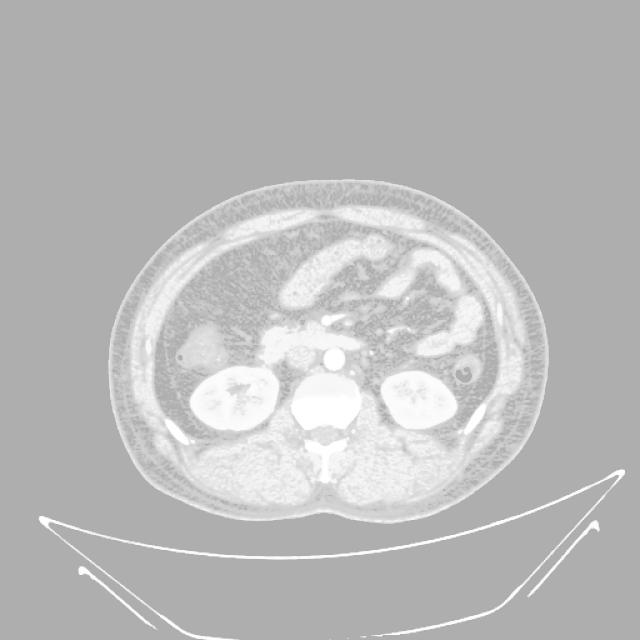NORMAL: (109, 164, 555, 540)
